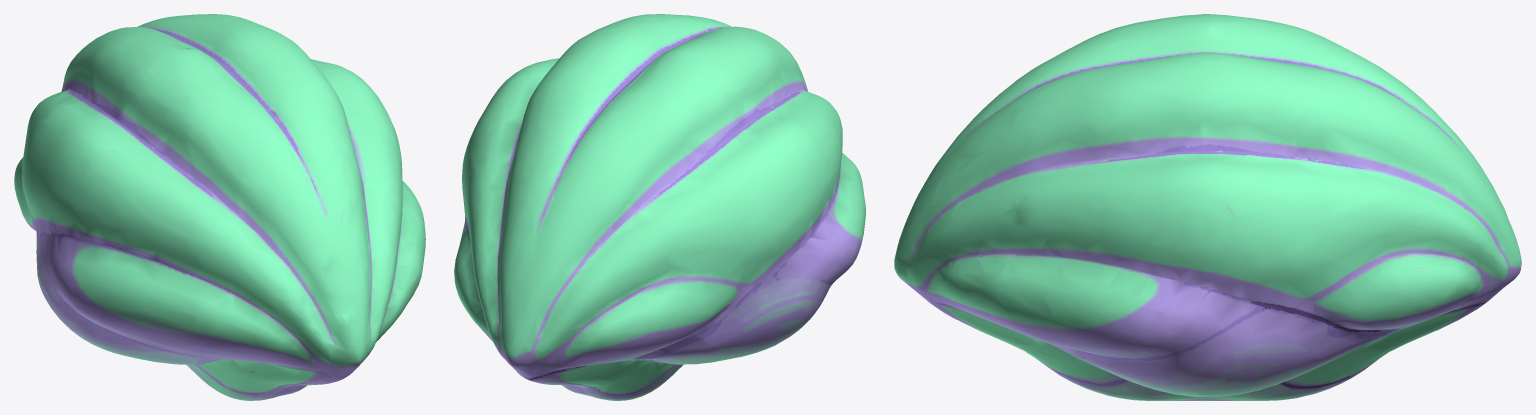
File: smallfanshell.glb
3 renders of one model, left to right at view 1: azimuth 30°, elevation 25°; view 2: azimuth 150°, elevation 25°; view 3: azimuth 270°, elevation 25°, orthographic. The views are drawn at different scales.
Visible parts, largest first — view 1: Mesh_0; view 2: Mesh_0; view 3: Mesh_0.
Boxes of the visible parts, x1=… form: Mesh_0: x1=14, y1=14, x2=425, y2=400; Mesh_0: x1=454, y1=14, x2=865, y2=400; Mesh_0: x1=894, y1=14, x2=1521, y2=400.
Bounding box in the file's own units: 1.31 × 1.19 × 1.9.
Materials: 1 (1 with a texture image).
